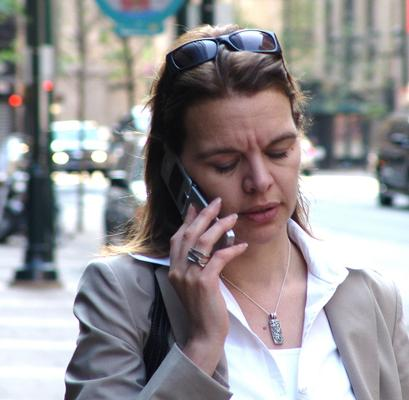person: (66, 23, 408, 400)
